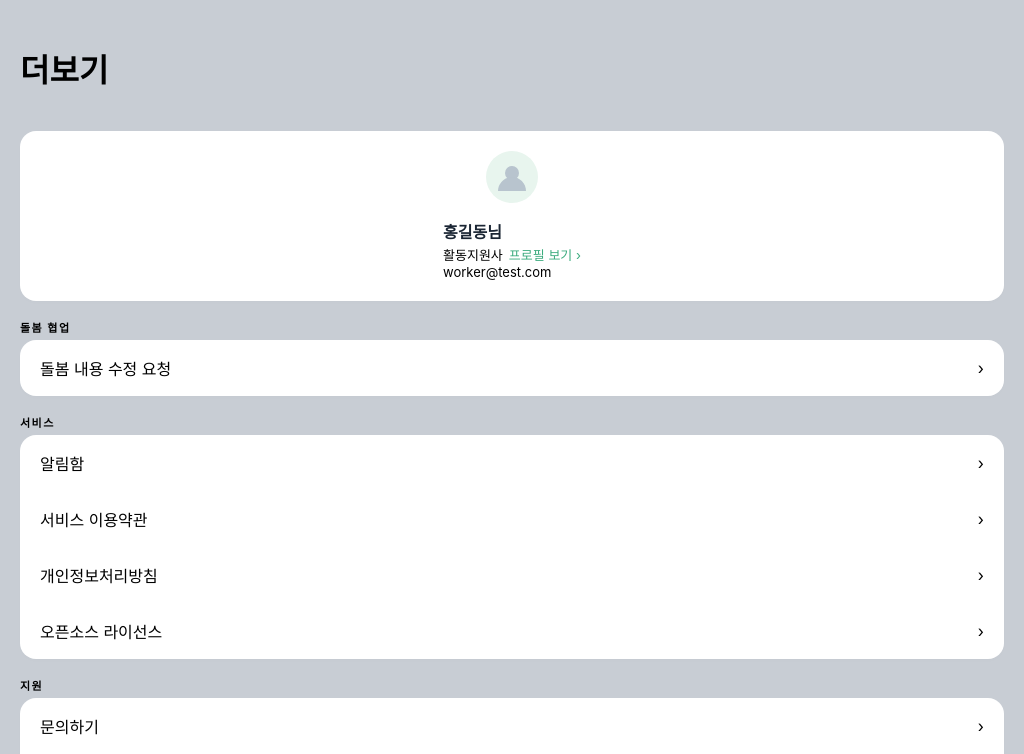
it: 사용자 이름/역할 영역을 클릭하면 사용자 프로필 모달이 열린다
This screenshot has width=1024, height=754.
Click the button with aria-label "내 프로필 정보 보기".
click(512, 249)  # box [443, 219, 581, 280]
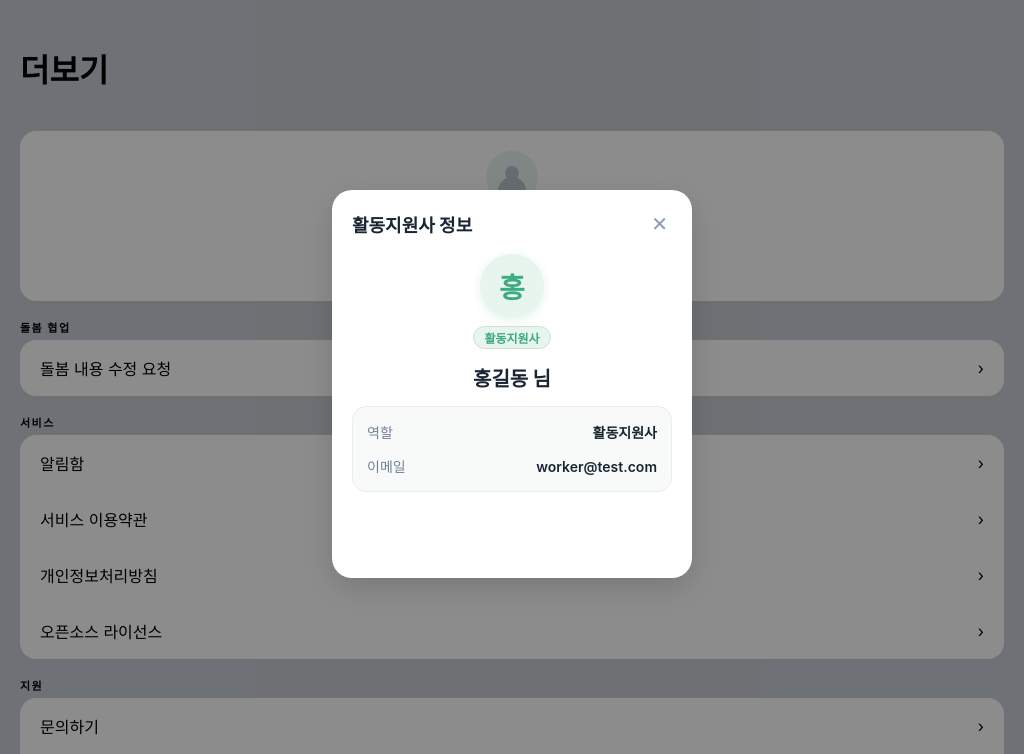
Check: the 1st text "worker@test.com" is shown, box [443, 264, 551, 280]
Check: the heading "활동지원사 정보" is shown, box [352, 211, 472, 237]
Check: the heading "홍길동 님" is shown, box [473, 363, 551, 392]
